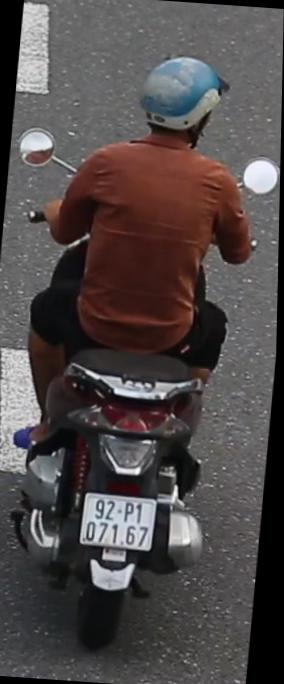LP: (74, 479, 165, 560)
helmet: (129, 40, 239, 170)
